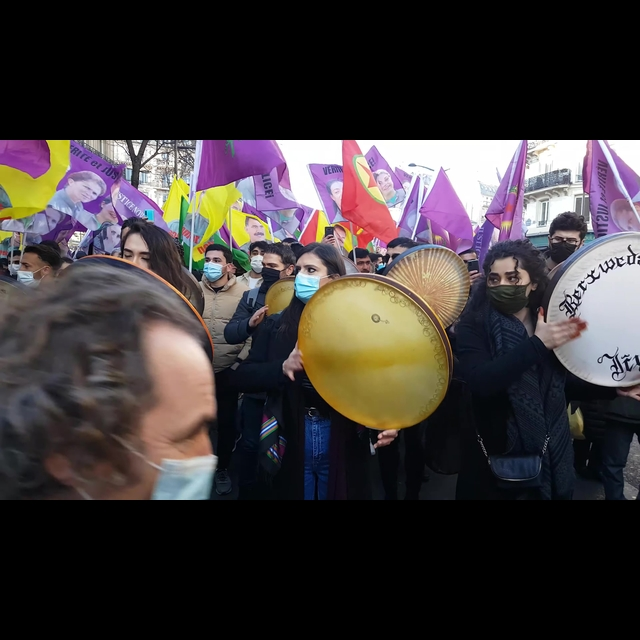APO: (242, 215, 266, 241)
